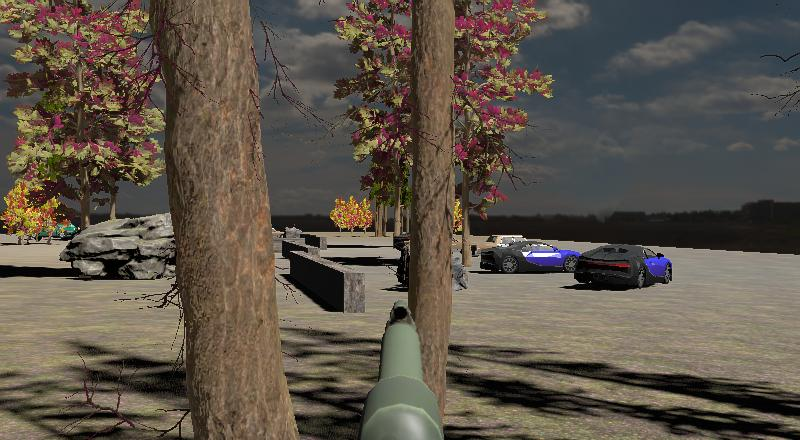Tank: (280, 224, 322, 259)
car: (572, 241, 675, 290), (479, 239, 585, 276), (473, 232, 530, 259)
